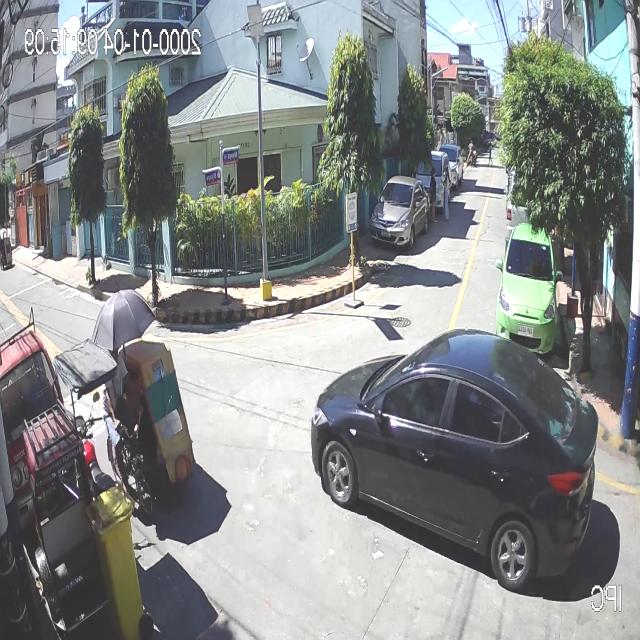standing: (440, 166, 452, 221), (429, 166, 439, 223)
walking: (488, 144, 493, 166)
